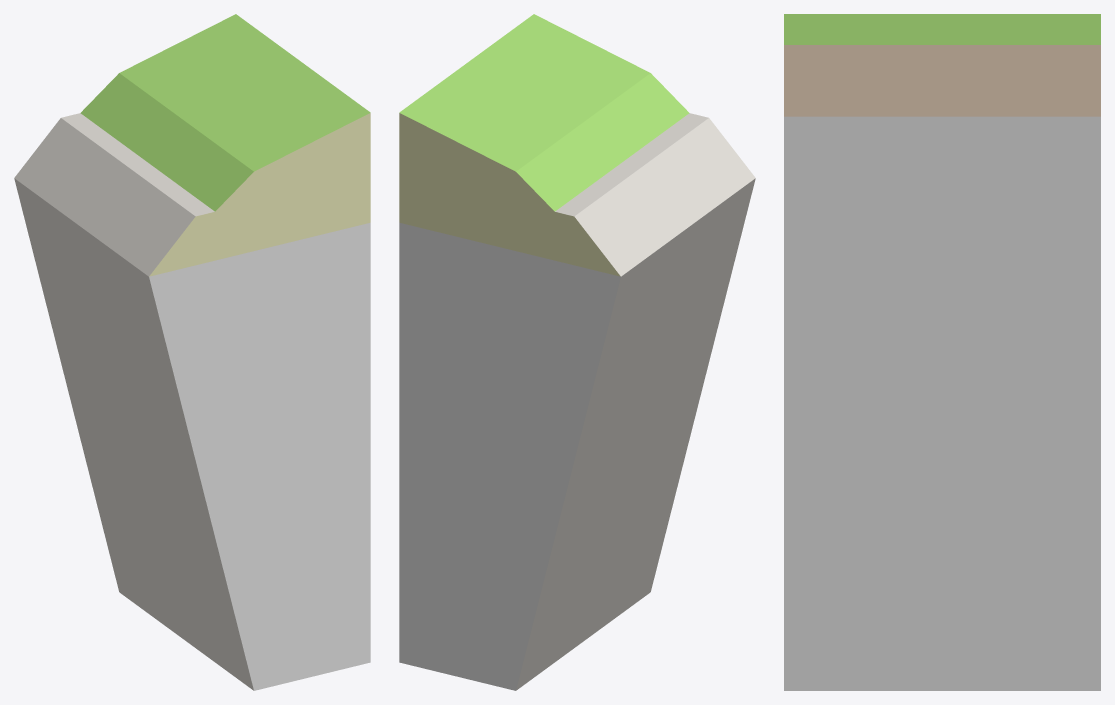
Rendered from Basic_Straight_Top_1x1.glb.
3 views of the same model, side by side, from view 1: azimuth 30°, elevation 25°; view 2: azimuth 150°, elevation 25°; view 3: azimuth 270°, elevation 25° (orthographic). The views are drawn at different scales.
Visible parts, largest first — view 1: Basic_Straight_Top_1x1; view 2: Basic_Straight_Top_1x1; view 3: Basic_Straight_Top_1x1.
Part boxes in pixels (x1,y1,x2,y2): Basic_Straight_Top_1x1: (14,14,370,690); Basic_Straight_Top_1x1: (399,14,755,690); Basic_Straight_Top_1x1: (784,14,1100,690).
Size of the model in its own units: 95 by 225 by 100.
